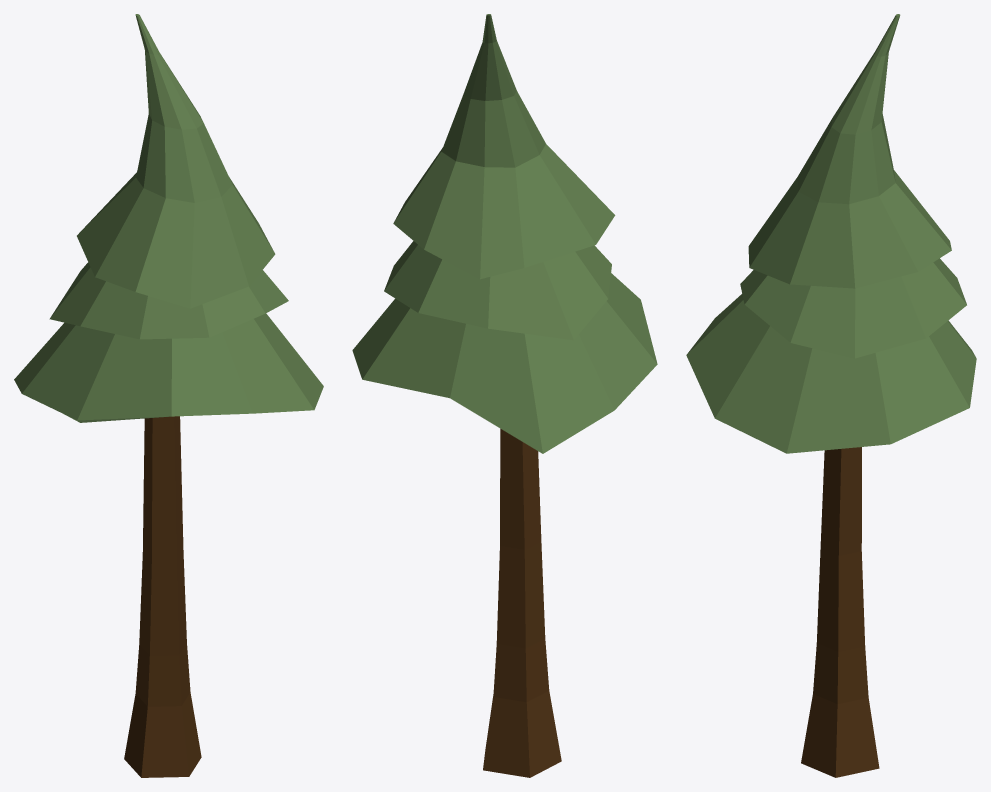
File: H_A_Tree_C.fbx
3 renders of one model, left to right at view 1: azimuth 30°, elevation 25°; view 2: azimuth 150°, elevation 25°; view 3: azimuth 270°, elevation 25°, orthographic. The views are drawn at different scales.
Parts seen in each view (by area): view 1: H_A_Tree_C; view 2: H_A_Tree_C; view 3: H_A_Tree_C.
Boxes of the visible parts, box(x1,y1,x2,y2) form: H_A_Tree_C: box(14, 14, 323, 777); H_A_Tree_C: box(352, 14, 657, 777); H_A_Tree_C: box(686, 14, 976, 777).
Size of the model in its own units: 349 by 969 by 342.
